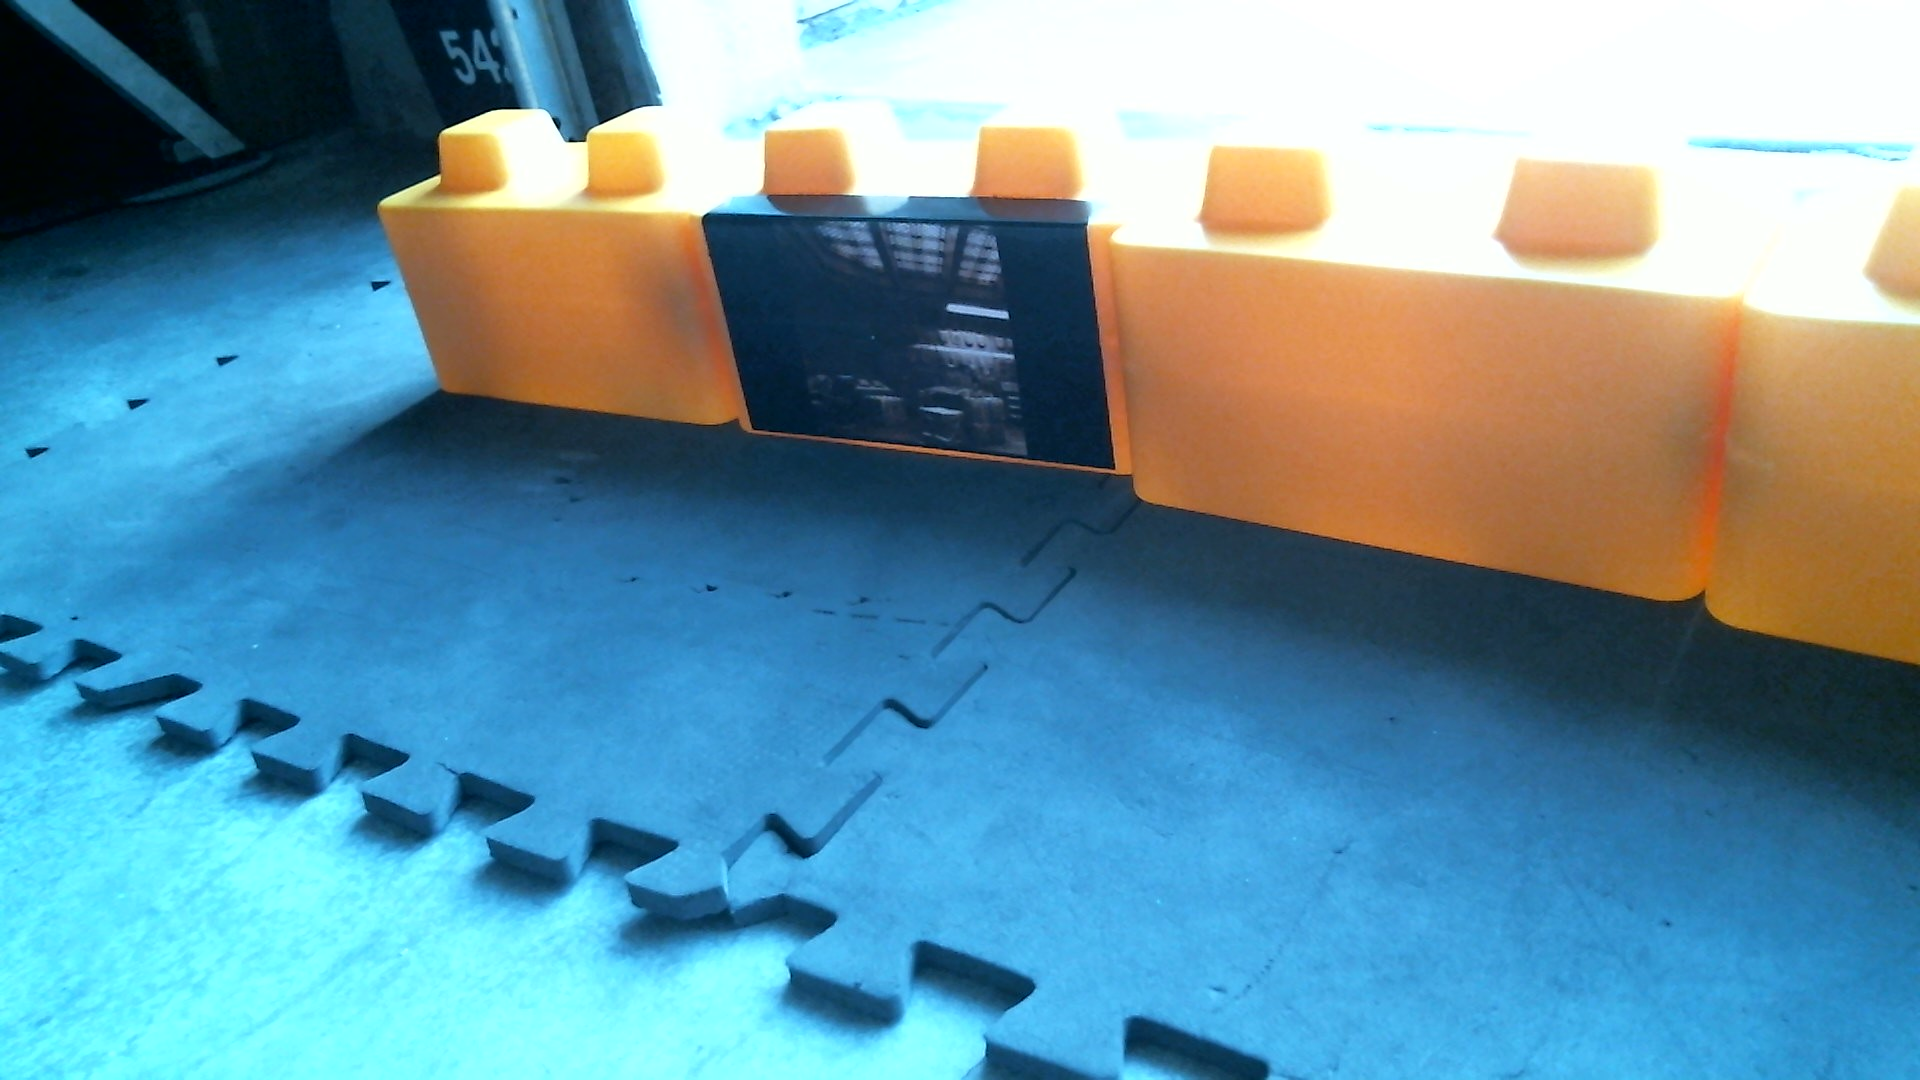center: (375, 98, 1807, 620)
